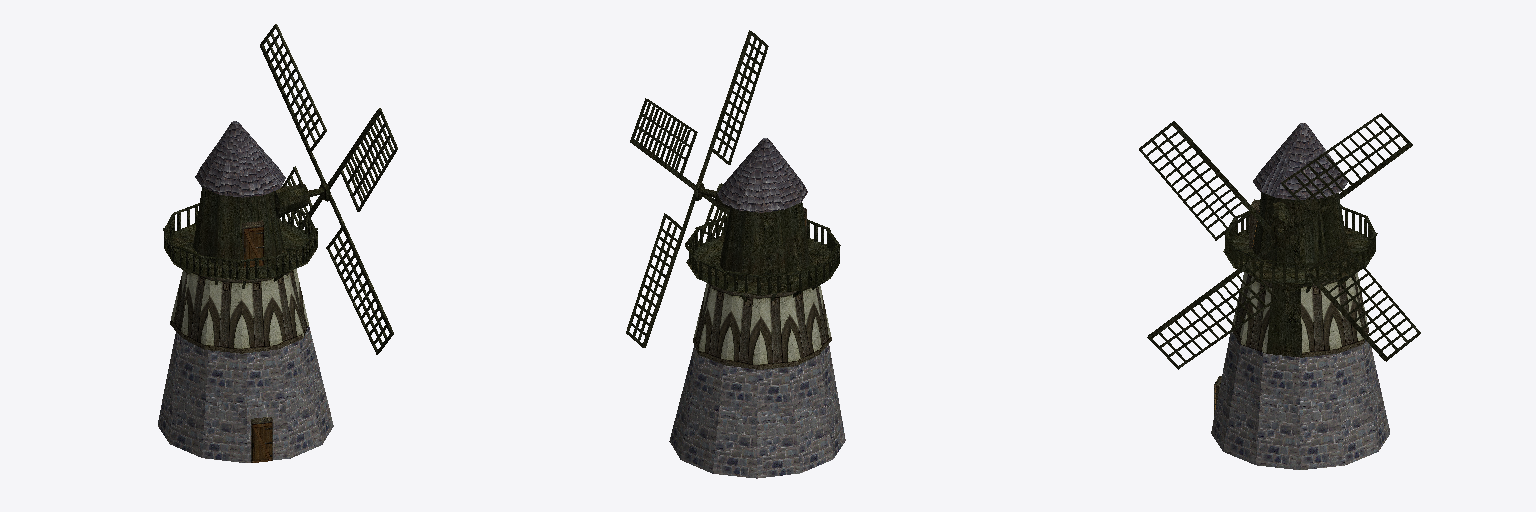
The picture shows the model from 3 angles: view 1: azimuth 30°, elevation 25°; view 2: azimuth 150°, elevation 25°; view 3: azimuth 270°, elevation 25°; orthographic projection.
Parts seen in each view (by area): view 1: Object_w1.jpg, Object_cs.jpg, Object_w10.jpg, Object_cr.jpg, Object_d49.jpg; view 2: Object_w1.jpg, Object_cs.jpg, Object_w10.jpg, Object_cr.jpg; view 3: Object_w1.jpg, Object_cs.jpg, Object_w10.jpg, Object_cr.jpg.
Boxes of the visible parts, <box> form: Object_w1.jpg: <box>163,24,397,354</box>; Object_cs.jpg: <box>158,326,333,462</box>; Object_w10.jpg: <box>170,269,308,353</box>; Object_cr.jpg: <box>195,121,285,197</box>; Object_d49.jpg: <box>243,225,272,462</box>; Object_w1.jpg: <box>626,30,840,347</box>; Object_cs.jpg: <box>669,344,845,478</box>; Object_w10.jpg: <box>693,283,831,369</box>; Object_cr.jpg: <box>717,138,807,212</box>; Object_w1.jpg: <box>1139,113,1420,369</box>; Object_cs.jpg: <box>1211,332,1389,469</box>; Object_w10.jpg: <box>1231,272,1368,357</box>; Object_cr.jpg: <box>1253,123,1347,199</box>.
Bounding box in the file's own units: 1.12 × 2.5 × 1.81.
8 materials, 7 textured.